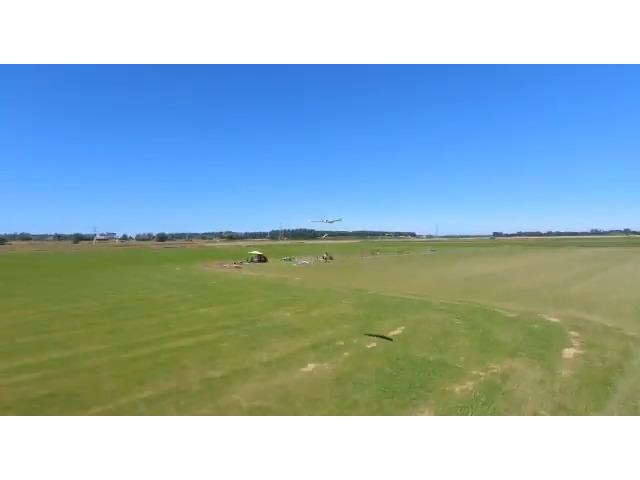Anti-Drone: (300, 208, 356, 232)
